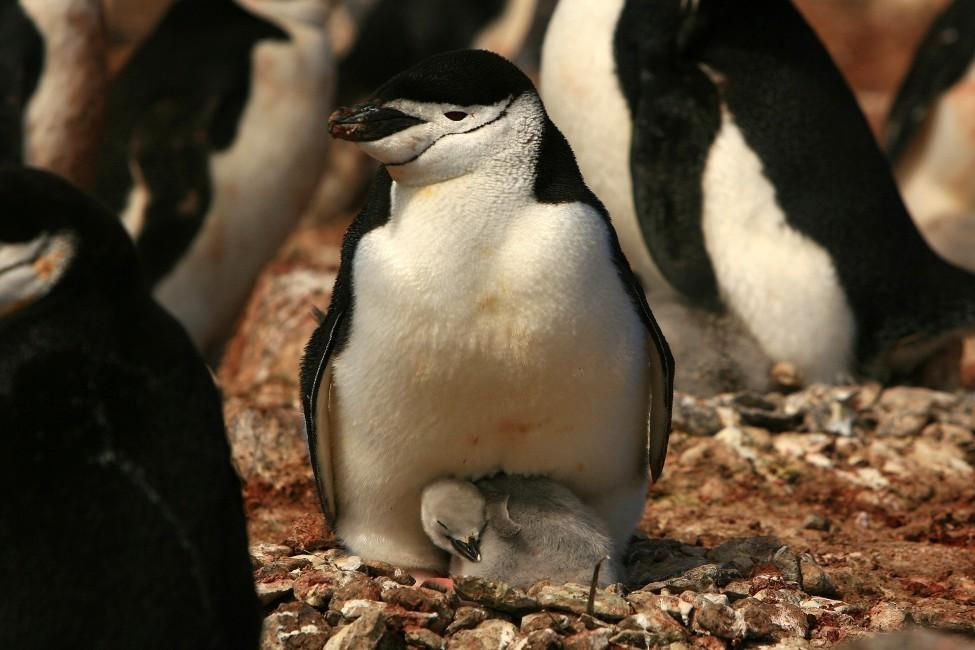Penguin: (301, 50, 674, 589), (613, 0, 973, 380), (0, 168, 260, 648), (85, 0, 341, 379), (535, 0, 670, 298), (879, 0, 973, 277), (333, 0, 543, 109), (423, 474, 616, 588), (0, 0, 110, 196)
